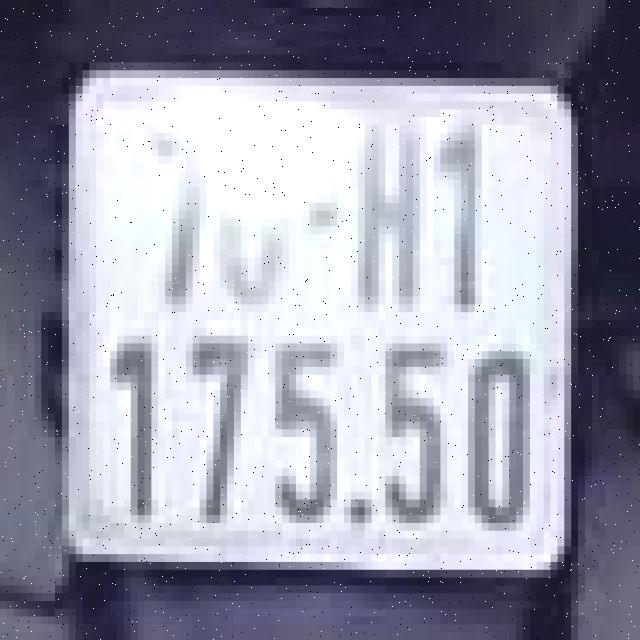0: (224, 94, 299, 312), (465, 328, 540, 538)
1: (434, 105, 496, 308), (110, 324, 165, 535)
5: (372, 328, 454, 531), (275, 320, 344, 531)
7: (138, 94, 220, 312), (176, 308, 251, 535)
H: (351, 94, 427, 312)
